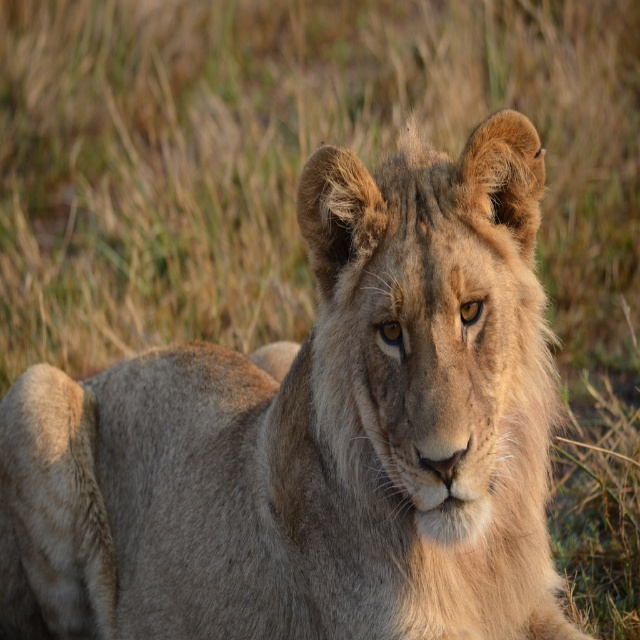Lion: (0, 108, 592, 639)
